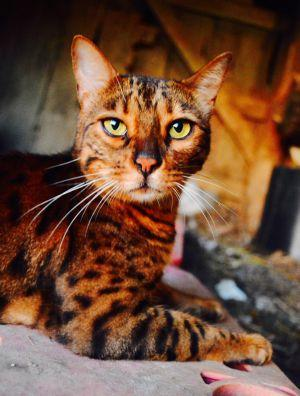bengal: (63, 30, 237, 214)
